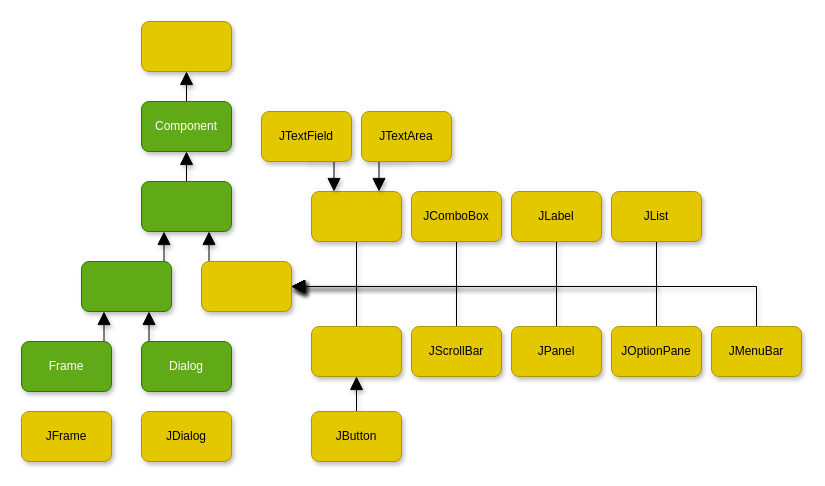
The diagram is 825 pixels wide and 486 high, and some of its shapes have lost their labels. Here are the shapes that lost their labels. From the top down, the centre of each, then its label:
the point at 187,47: Object
the point at 187,207: Container
the point at 357,217: JText
the point at 127,287: Window
the point at 247,287: JComponent
the point at 357,353: Abstract Button
